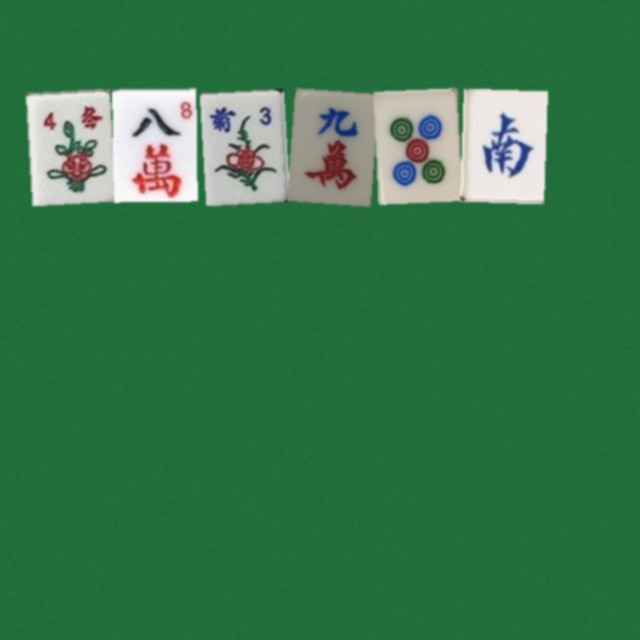tile: (25, 88, 109, 201), (112, 88, 196, 201), (199, 88, 283, 201), (286, 88, 370, 201), (373, 88, 457, 201), (460, 88, 544, 201)
